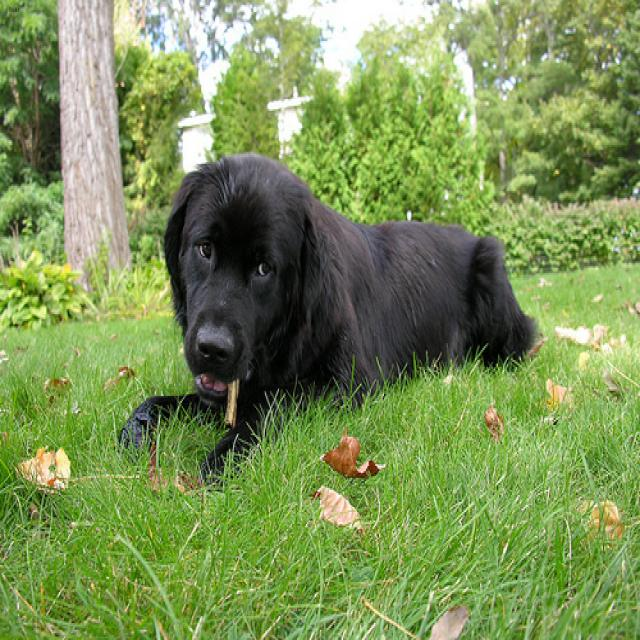dog-newfoundland: (113, 147, 547, 495)
